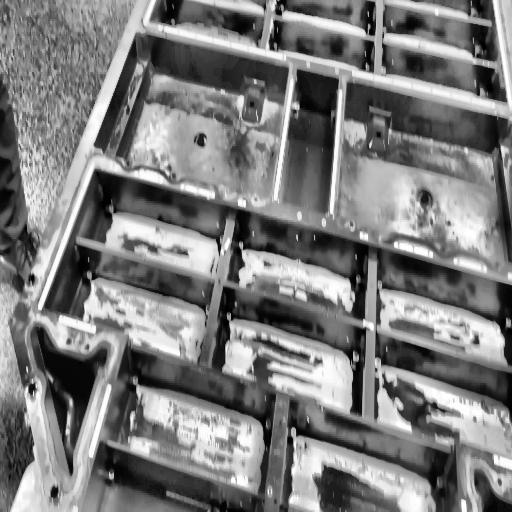b_casing: (8, 0, 512, 512)
